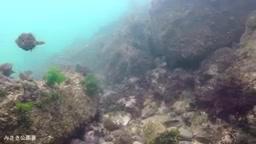kawahagi: (10, 30, 46, 53)
